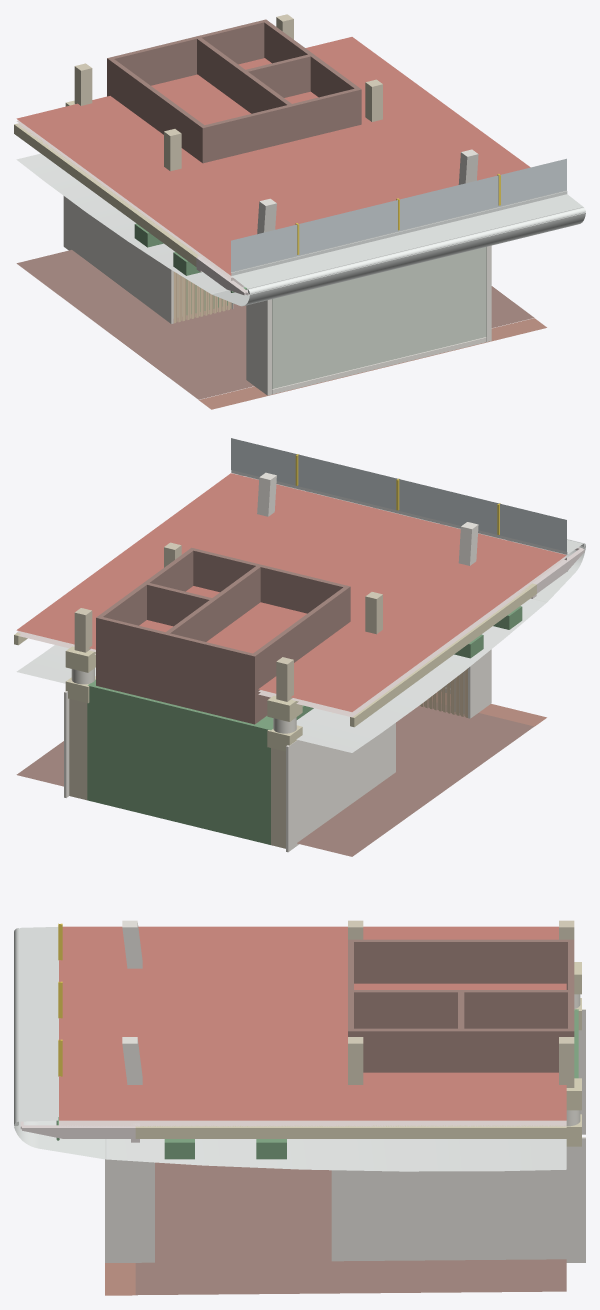
The model's file is A_JDC_C_01.glb.
3 views of the same model, one above another, from view 1: azimuth 30°, elevation 25°; view 2: azimuth 150°, elevation 25°; view 3: azimuth 270°, elevation 25° (orthographic). The views are drawn at different scales.
Parts seen in each view (by area): view 1: acfa0edf-02a0-4371-ac18-90097dbec23d, efb82b0f-4a41-4295-9e88-fb3f1e49e36a, 08c2272f-f64e-4b19-90b3-15ecf9c82e3f, aed8b300-c71d-4a87-8058-8e6aff96450d, d2357744-a470-402c-912a-30fbb0eea20e, c73b8509-aee2-4d6d-a383-293f5319c995, a958c5c6-c516-4d22-82d8-f60541086fe2, ee524f61-8378-4ee8-85e4-b7e7fb958a28, 661313db-cc43-42b9-83cc-6d140d1dfd9b, b4dc7edf-cc0c-485a-8395-ee1859321717, f2f58531-6344-4579-b55f-f2f27649cefd, 3ef8f02e-2a78-415f-8fd0-f5075e0a57af (+17 smaller); view 2: acfa0edf-02a0-4371-ac18-90097dbec23d, 550e9f26-4fe0-4abb-8da7-4d8b8d81289f, 08c2272f-f64e-4b19-90b3-15ecf9c82e3f, aed8b300-c71d-4a87-8058-8e6aff96450d, d2357744-a470-402c-912a-30fbb0eea20e, ee524f61-8378-4ee8-85e4-b7e7fb958a28, 661313db-cc43-42b9-83cc-6d140d1dfd9b, b4dc7edf-cc0c-485a-8395-ee1859321717, aaa6aaa1-e2e0-4d14-b980-3c976fc6acd4, 9de4730f-a0d1-4de0-b8f0-a8e1453a2d6c, 86e44835-bd30-4af4-9b48-7e38f03002c1, ec36d082-1b16-4b09-a1d1-3dbd0cb755fa (+20 smaller); view 3: acfa0edf-02a0-4371-ac18-90097dbec23d, aed8b300-c71d-4a87-8058-8e6aff96450d, 08c2272f-f64e-4b19-90b3-15ecf9c82e3f, ee524f61-8378-4ee8-85e4-b7e7fb958a28, 661313db-cc43-42b9-83cc-6d140d1dfd9b, c73b8509-aee2-4d6d-a383-293f5319c995, 217ae8da-b94d-4812-8145-35104a26aea7, fece202f-c5b6-4d59-9cfc-69f72b129c28, a73d5439-962f-4a7d-b87f-fa52100287f7, d11051a0-bafa-4c20-a3c5-78bc2ec6b8b3, 14b4b494-0816-47b7-8ee2-833efd308948, 4ae7a88f-fd69-4727-acc3-8ce595cd3d95 (+15 smaller).
Part boxes in pixels (x1=…): acfa0edf-02a0-4371-ac18-90097dbec23d: x1=16, y1=37, x2=530, y2=275; efb82b0f-4a41-4295-9e88-fb3f1e49e36a: x1=272, y1=247, x2=486, y2=389; 08c2272f-f64e-4b19-90b3-15ecf9c82e3f: x1=107, y1=19, x2=361, y2=163; aed8b300-c71d-4a87-8058-8e6aff96450d: x1=16, y1=250, x2=534, y2=399; d2357744-a470-402c-912a-30fbb0eea20e: x1=231, y1=158, x2=566, y2=271; c73b8509-aee2-4d6d-a383-293f5319c995: x1=231, y1=190, x2=583, y2=289; a958c5c6-c516-4d22-82d8-f60541086fe2: x1=211, y1=212, x2=585, y2=306; ee524f61-8378-4ee8-85e4-b7e7fb958a28: x1=16, y1=153, x2=226, y2=293; 661313db-cc43-42b9-83cc-6d140d1dfd9b: x1=197, y1=37, x2=291, y2=113; b4dc7edf-cc0c-485a-8395-ee1859321717: x1=14, y1=123, x2=200, y2=266; f2f58531-6344-4579-b55f-f2f27649cefd: x1=246, y1=299, x2=271, y2=395; 3ef8f02e-2a78-415f-8fd0-f5075e0a57af: x1=248, y1=207, x2=585, y2=293; acfa0edf-02a0-4371-ac18-90097dbec23d: x1=16, y1=473, x2=566, y2=711; 550e9f26-4fe0-4abb-8da7-4d8b8d81289f: x1=87, y1=679, x2=313, y2=844; 08c2272f-f64e-4b19-90b3-15ecf9c82e3f: x1=96, y1=547, x2=350, y2=724; aed8b300-c71d-4a87-8058-8e6aff96450d: x1=16, y1=700, x2=534, y2=856; d2357744-a470-402c-912a-30fbb0eea20e: x1=231, y1=438, x2=566, y2=551; ee524f61-8378-4ee8-85e4-b7e7fb958a28: x1=16, y1=598, x2=546, y2=752; 661313db-cc43-42b9-83cc-6d140d1dfd9b: x1=166, y1=566, x2=260, y2=641; b4dc7edf-cc0c-485a-8395-ee1859321717: x1=350, y1=583, x2=536, y2=727; aaa6aaa1-e2e0-4d14-b980-3c976fc6acd4: x1=286, y1=740, x2=307, y2=852; 9de4730f-a0d1-4de0-b8f0-a8e1453a2d6c: x1=16, y1=557, x2=566, y2=717; 86e44835-bd30-4af4-9b48-7e38f03002c1: x1=69, y1=678, x2=95, y2=800; ec36d082-1b16-4b09-a1d1-3dbd0cb755fa: x1=147, y1=583, x2=211, y2=626; acfa0edf-02a0-4371-ac18-90097dbec23d: x1=59, y1=926, x2=566, y2=1120; aed8b300-c71d-4a87-8058-8e6aff96450d: x1=135, y1=1162, x2=566, y2=1295; 08c2272f-f64e-4b19-90b3-15ecf9c82e3f: x1=348, y1=939, x2=574, y2=1072; ee524f61-8378-4ee8-85e4-b7e7fb958a28: x1=106, y1=1139, x2=566, y2=1171; 661313db-cc43-42b9-83cc-6d140d1dfd9b: x1=354, y1=990, x2=567, y2=1028; c73b8509-aee2-4d6d-a383-293f5319c995: x1=19, y1=923, x2=58, y2=1122; 217ae8da-b94d-4812-8145-35104a26aea7: x1=135, y1=1125, x2=566, y2=1138; fece202f-c5b6-4d59-9cfc-69f72b129c28: x1=105, y1=1159, x2=154, y2=1262; a73d5439-962f-4a7d-b87f-fa52100287f7: x1=541, y1=1137, x2=585, y2=1262; d11051a0-bafa-4c20-a3c5-78bc2ec6b8b3: x1=331, y1=1170, x2=376, y2=1261; 14b4b494-0816-47b7-8ee2-833efd308948: x1=376, y1=1171, x2=417, y2=1260; 4ae7a88f-fd69-4727-acc3-8ce595cd3d95: x1=417, y1=1171, x2=458, y2=1260.
Bounding box in the file's own units: 15.2 × 7.82 × 18.71.
